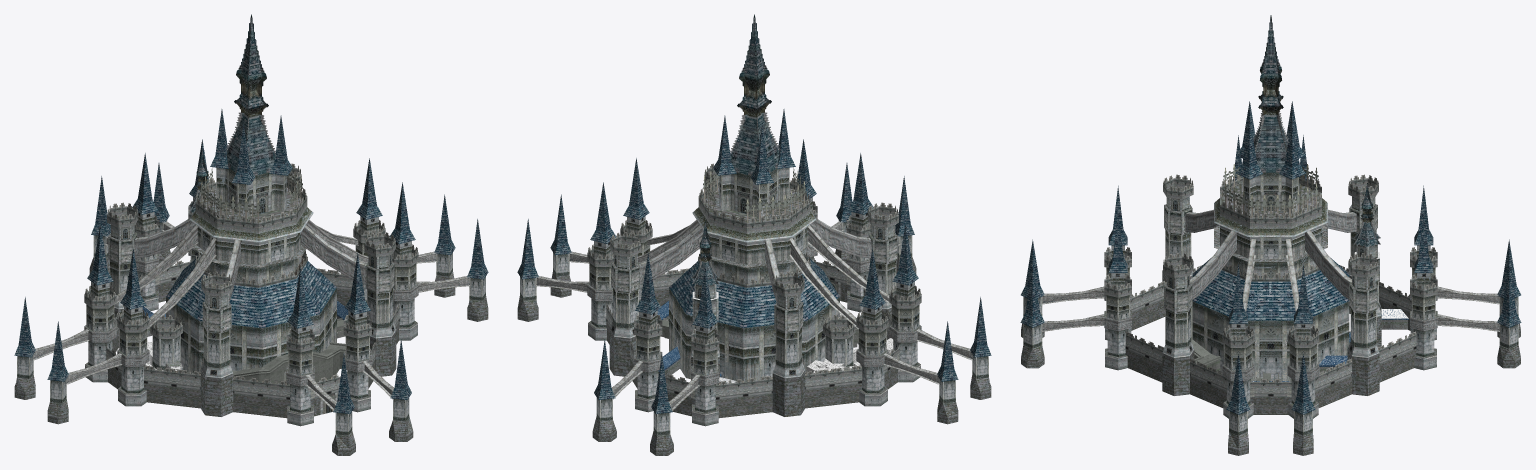
The picture shows the model from 3 angles, left to right: view 1: azimuth 30°, elevation 25°; view 2: azimuth 150°, elevation 25°; view 3: azimuth 270°, elevation 25°; orthographic projection.
Parts seen in each view (by area): view 1: Component_4 (×18), Component_7 (×9), Component_3 (×14), Component_22 (×3), Component_18 (×6), Component_6 (×4), Component_21, Component_8 (×2), Component_17, group_0, Component_15, Component_33 (×2) (+8 smaller); view 2: Component_4 (×19), Component_22 (×4), Component_7 (×9), Component_3 (×14), Component_18 (×6), Component_6 (×4), Component_8 (×2), Component_17, group_0, Component_15, Component_11 (×3), Component_10 (×2) (+7 smaller); view 3: Component_7 (×10), Component_22 (×3), Component_4 (×10), Component_3 (×8), Component_6 (×6), Component_18 (×5), Component_8 (×4), group_0, Component_17, Component_15, Component_27, skpE4C (+4 smaller).
Boxes of the visible parts, box(x1,y1,x2,y2) form: Component_4 (×18): box(84, 153, 418, 412); Component_7 (×9): box(107, 202, 396, 416); Component_3 (×14): box(14, 163, 488, 455); Component_22 (×3): box(166, 261, 336, 373); Component_18 (×6): box(210, 14, 292, 184); Component_6 (×4): box(144, 268, 351, 418); Component_21: box(259, 279, 319, 381); Component_8 (×2): box(134, 218, 366, 284); Component_17: box(216, 167, 286, 219); group_0: box(195, 177, 307, 233); Component_15: box(217, 223, 307, 264); Component_33 (×2): box(232, 344, 345, 383); Component_4 (×19): box(587, 139, 921, 412); Component_22 (×4): box(669, 261, 839, 381); Component_7 (×9): box(609, 202, 898, 416); Component_3 (×14): box(517, 163, 991, 455); Component_18 (×6): box(713, 14, 795, 184); Component_6 (×4): box(654, 268, 861, 418); Component_8 (×2): box(639, 218, 871, 284); Component_17: box(719, 167, 789, 219); group_0: box(698, 177, 810, 233); Component_15: box(698, 223, 788, 264); Component_11 (×3): box(637, 220, 889, 324); Component_10 (×2): box(823, 315, 855, 366); Component_7 (×10): box(1162, 174, 1379, 395); Component_22 (×3): box(1192, 270, 1349, 381); Component_4 (×10): box(1104, 213, 1437, 371); Component_3 (×8): box(1020, 267, 1521, 455); Component_6 (×6): box(1125, 281, 1416, 407); Component_18 (×5): box(1236, 15, 1305, 179); Component_8 (×4): box(1185, 209, 1356, 299); group_0: box(1220, 174, 1321, 228); Component_17: box(1243, 172, 1298, 213); Component_15: box(1220, 225, 1321, 259); Component_27: box(1250, 379, 1291, 414); skpE4C: box(1225, 255, 1316, 277).
Size of the model in its own units: 11757 by 11757 by 8707.
Materials: 16 (9 with a texture image).
